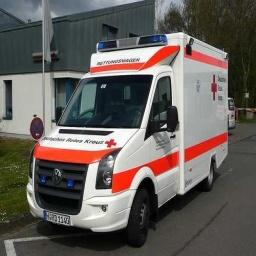Ambulance: (27, 33, 227, 245), (227, 97, 235, 129)
